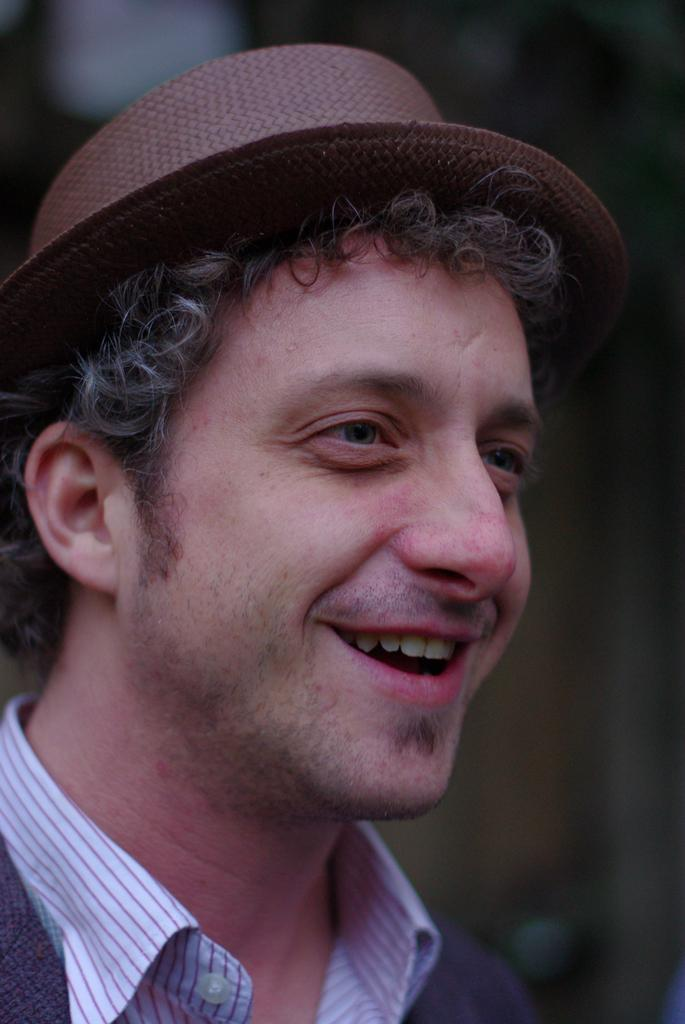Hat: (0, 44, 632, 382)
